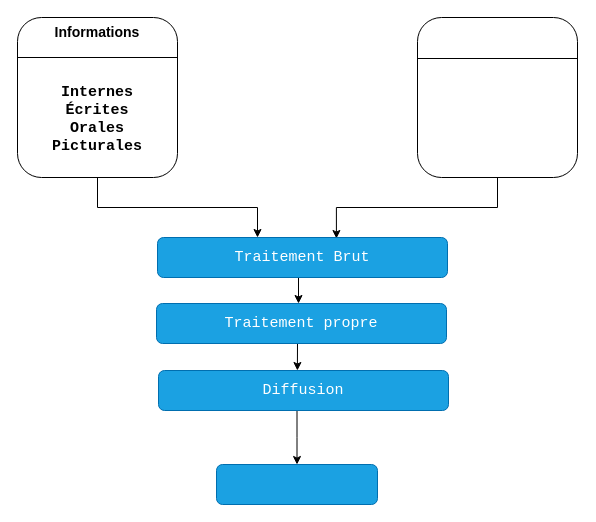
The diagram is 596 pixels wide and 522 high, and some of its shapes have lost their labels. Each missing label, with the centre of its shape:
Informations Externes Écrites Orales Picturales: point 497,97
Utilisateurs: point 297,484
